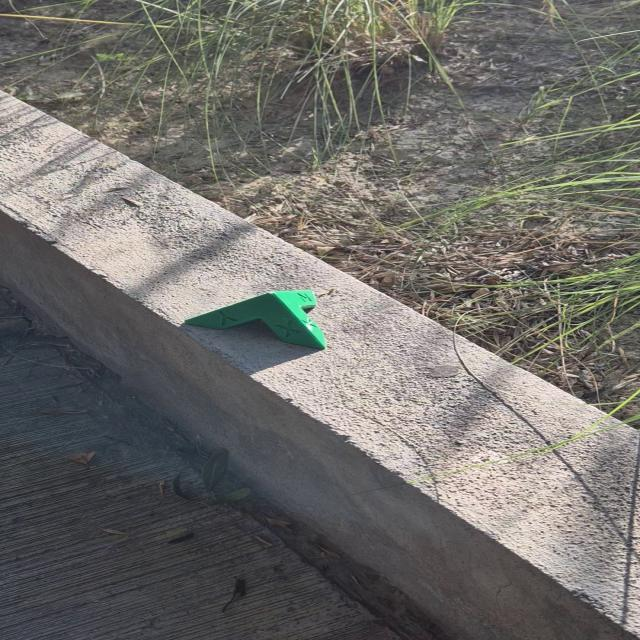objects: (182, 289, 328, 351)
